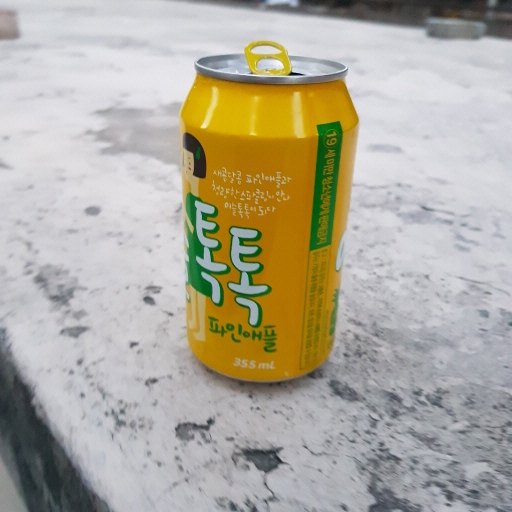Metal_0: (178, 39, 362, 386)
